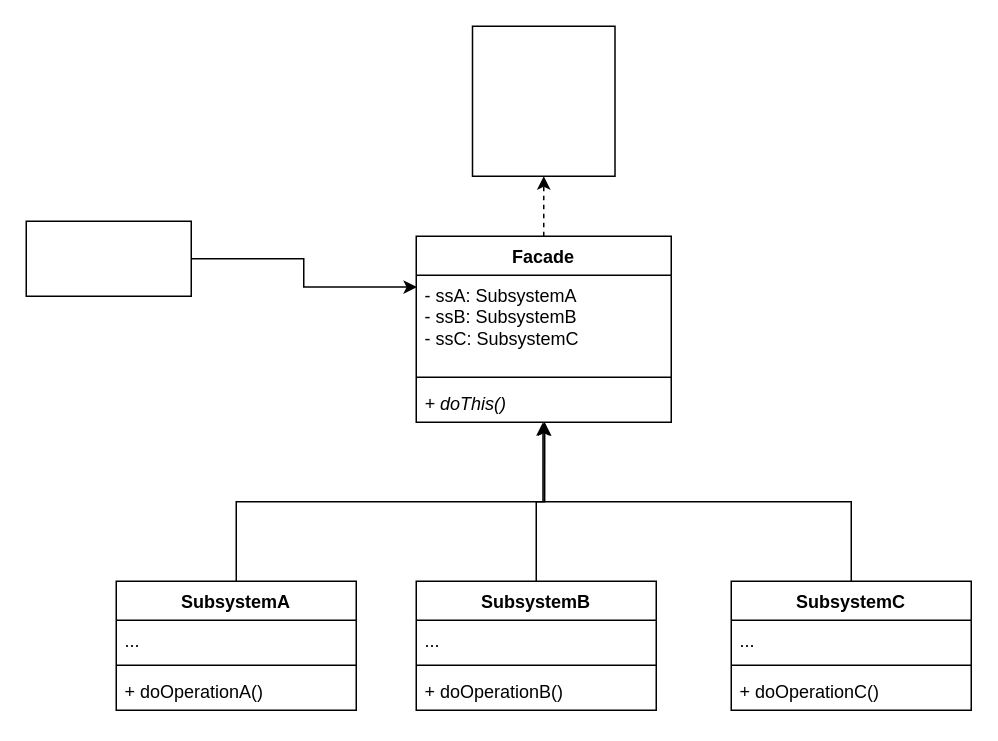
This 998x741 diagram has some shape labels left out. The centre of each missing label's shape, as x and y in pixels:
<<Interface>> Facade ... + doThis(): (x=543, y=100)
Object: (x=108, y=258)
